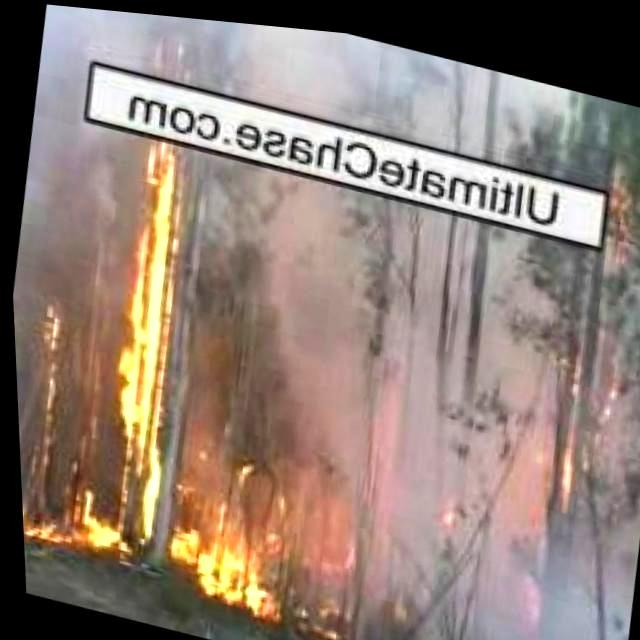fire: (54, 103, 202, 562), (159, 460, 305, 628), (500, 407, 584, 553), (586, 154, 636, 254), (17, 504, 51, 544)
